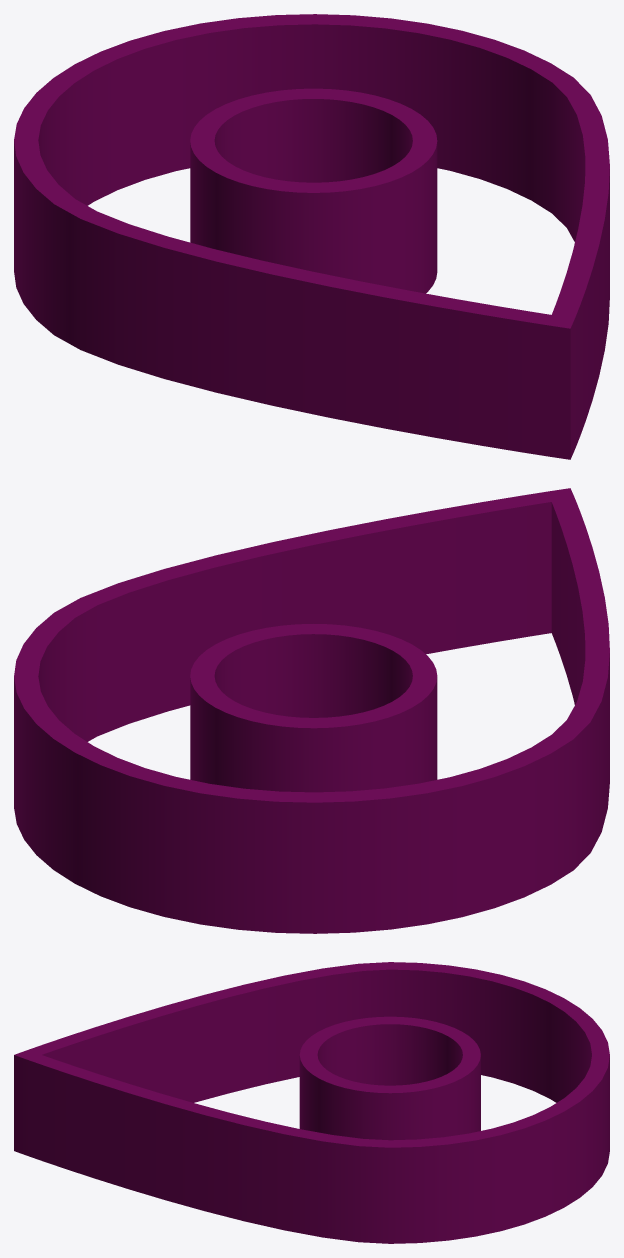
File: 3dpos.fbx
The picture shows the model from 3 angles, top to bottom: view 1: azimuth 30°, elevation 25°; view 2: azimuth 150°, elevation 25°; view 3: azimuth 270°, elevation 25°; orthographic projection. The views are drawn at different scales.
Visible parts, largest first — view 1: 3dTag; view 2: 3dTag; view 3: 3dTag.
Part boxes in pixels (x1,y1,x2,y2): 3dTag: (14, 14, 609, 459); 3dTag: (14, 488, 609, 933); 3dTag: (14, 962, 609, 1243).
Size of the model in its own units: 82.87 by 20 by 112.
